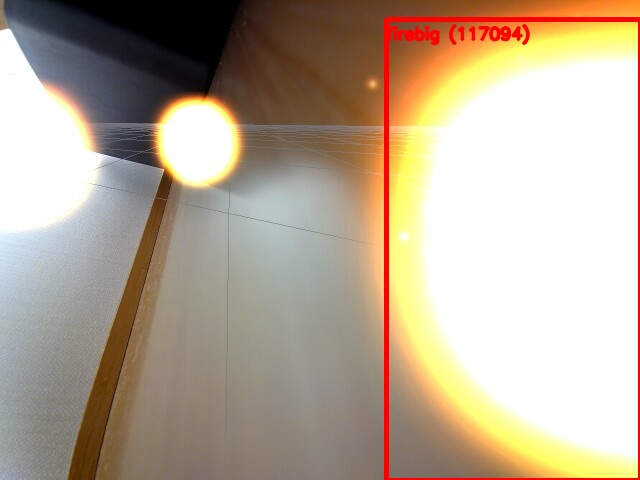firebig: (386, 19, 640, 480)
